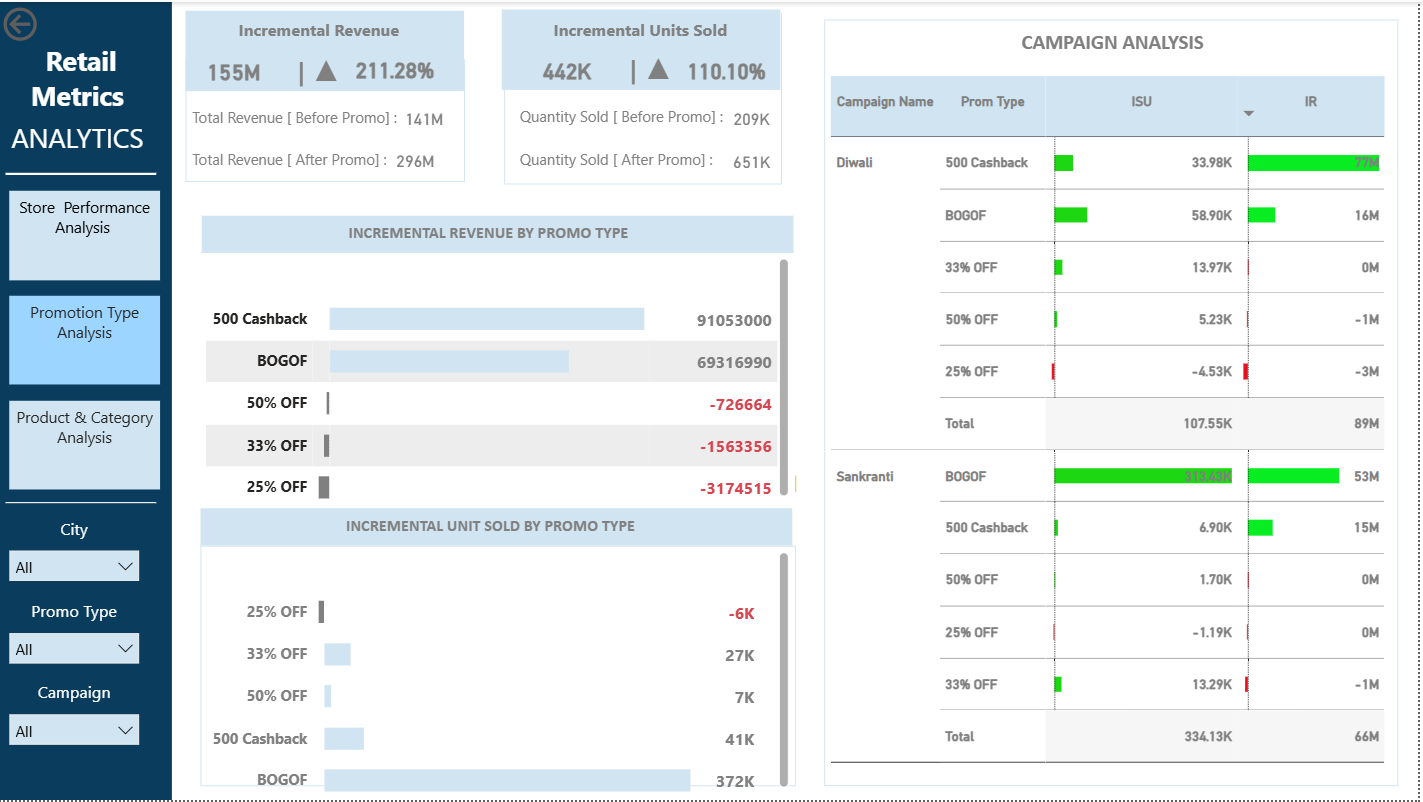

Layout of this report page (visuals, bound fields, positions):
{"tool":"powerbi","page":{"name":"Promotion Type  Analysis","canvas":[1280,720],"ordinal":1},"visuals":[{"type":"textbox","box":[183.7,192.4,533.8,33.5],"z":0},{"type":"textbox","box":[0,0,156.4,720.4],"z":1000},{"type":"actionButton","box":[0,0,100,40],"z":3000},{"type":"textbox","box":[744.8,16.1,517.6,691.4],"z":7000},{"type":"textbox","box":[183.4,426.8,535.6,14.7],"z":8000},{"type":"textbox","box":[0,31.8,143.1,74.6],"z":10000},{"type":"textbox","box":[0,101.5,143.1,44],"z":11000},{"type":"shape","box":[6.7,130.6,136,48.5],"z":12000},{"type":"slicer","title":"City","fields":{"Values":["dim_stores.city"]},"box":[0,464.7,137.3,74],"z":13000},{"type":"slicer","title":"Promo Type","fields":{"Values":["fact_events.promo_type"]},"box":[0,538.2,137.3,74],"z":14000},{"type":"slicer","title":"Campaign","fields":{"Values":["dim_campaigns.campaign_name"]},"box":[0,612.3,137.3,74],"z":15000},{"type":"shape","box":[6.7,426.8,136,48.5],"z":16000},{"type":"textbox","box":[9.8,170,135.7,80.7],"z":17000},{"type":"textbox","box":[9.8,265.4,135.7,80],"z":18000},{"type":"textbox","box":[9.8,359.5,135.7,80],"z":19000},{"type":"textbox","box":[311.6,193.6,291.7,33.5],"z":20000},{"type":"pivotTable","fields":{"Rows":["fact_events.promo_type"],"Values":["Sum(fact_events.IR)","Measures (2).Total IR"]},"box":[182.2,226.2,535.6,229.9],"z":21000},{"type":"pivotTable","fields":{"Values":["Sum(fact_events.ISU)","Sum(fact_events.IR)"],"Rows":["dim_campaigns.campaign_name","fact_events.promo_type"]},"box":[746,62.1,516.4,645.5],"z":22000},{"type":"textbox","box":[746,19.9,517.6,34.8],"z":23000},{"type":"textbox","box":[182.8,456.9,533.8,33.5],"z":24000},{"type":"textbox","box":[182.2,490.4,536.8,216.4],"z":25000},{"type":"textbox","box":[309.1,458,291.7,33.5],"z":26000},{"type":"pivotTable","fields":{"Rows":["fact_events.promo_type"],"Values":["Measures (2).Total Incremental Sold Units","Sum(fact_events.ISU)"]},"box":[182.2,491.6,535.6,228.7],"z":27000},{"type":"shape","box":[169.2,7.8,251.2,72.5],"z":28000},{"type":"card","fields":{"Values":["Sum(fact_events.Total Revenue(after_promo))"]},"box":[317.6,121.1,117.1,48.5],"z":29000},{"type":"card","fields":{"Values":["Sum(fact_events.Total Revenue(before_promo))"]},"box":[335.4,85,96.9,45.8],"z":30000},{"type":"card","fields":{"Values":["Sum(fact_events.IR)"]},"box":[173.7,44.6,78.4,37.4],"z":31000},{"type":"textbox","box":[169.8,90.4,204.6,35],"z":32000},{"type":"textbox","box":[169.8,127.9,204.6,35],"z":33000},{"type":"textbox","box":[211.7,10.3,171.2,42.5],"z":34000},{"type":"textbox","box":[168.8,51.4,251.9,110.1],"z":35000},{"type":"shape","box":[454.2,6.8,251.2,72.5],"z":36000},{"type":"card","fields":{"Values":["Sum(fact_events.ISU)"]},"box":[479.2,44,68.5,37.9],"z":37000},{"type":"textbox","box":[465.6,89.4,204.6,35],"z":38000},{"type":"textbox","box":[465.6,126.9,204.6,35],"z":39000},{"type":"textbox","box":[496.2,10,210,41.7],"z":40000},{"type":"textbox","box":[456.1,9.8,250.7,154.1],"z":41000},{"type":"card","fields":{"Values":["Measures (2).ISU %"]},"box":[296.7,22.9,123,78.4],"z":42000},{"type":"card","fields":{"Values":["Measures (2).IR %"]},"box":[607.5,30.6,99,64.8],"z":43000},{"type":"card","fields":{"Values":["Measures (2).Icon for IR"]},"box":[252.1,41,74.8,43.4],"z":44000},{"type":"card","fields":{"Values":["Measures (2).Icon for ISU"]},"box":[513.8,15.7,150.8,89.2],"z":45000},{"type":"card","fields":{"Values":["Sum(fact_events.quantity_sold(before_promo))"]},"box":[631.2,84,96.9,45.8],"z":46000},{"type":"card","fields":{"Values":["Sum(fact_events.Qunatity Sold After Promotion)"]},"box":[630.8,123,96.9,45.8],"z":47000},{"type":"shape","box":[0,360.7,149.2,90.5],"z":48000},{"type":"shape","box":[6.1,170,143.1,80.7],"z":49000}]}

Visuals, with their boxes on the page's 1280x720 design canvas (x1, y1, x2, y2). These are canvas units, not pixel positions in the 1423x802 screenshot, which may show the page scaled, cropped or inside an application window:
textbox: l=184, t=192, r=718, b=226
textbox: l=0, t=0, r=156, b=720
actionButton: l=0, t=0, r=100, b=40
textbox: l=745, t=16, r=1262, b=708
textbox: l=183, t=427, r=719, b=442
textbox: l=0, t=32, r=143, b=106
textbox: l=0, t=102, r=143, b=146
shape: l=7, t=131, r=143, b=179
"City" slicer: l=0, t=465, r=137, b=539
"Promo Type" slicer: l=0, t=538, r=137, b=612
"Campaign" slicer: l=0, t=612, r=137, b=686
shape: l=7, t=427, r=143, b=475
textbox: l=10, t=170, r=146, b=251
textbox: l=10, t=265, r=146, b=345
textbox: l=10, t=360, r=146, b=440
textbox: l=312, t=194, r=603, b=227
pivotTable - fact_events.promo_type x Sum(fact_events.IR): l=182, t=226, r=718, b=456
pivotTable - Sum(fact_events.ISU) x Sum(fact_events.IR): l=746, t=62, r=1262, b=708
textbox: l=746, t=20, r=1264, b=55
textbox: l=183, t=457, r=717, b=490
textbox: l=182, t=490, r=719, b=707
textbox: l=309, t=458, r=601, b=492
pivotTable - fact_events.promo_type x Measures (2).Total Incremental Sold Units: l=182, t=492, r=718, b=720
shape: l=169, t=8, r=420, b=80
card - Sum(fact_events.Total Revenue(after_promo)): l=318, t=121, r=435, b=170
card - Sum(fact_events.Total Revenue(before_promo)): l=335, t=85, r=432, b=131
card - Sum(fact_events.IR): l=174, t=45, r=252, b=82
textbox: l=170, t=90, r=374, b=125
textbox: l=170, t=128, r=374, b=163
textbox: l=212, t=10, r=383, b=53
textbox: l=169, t=51, r=421, b=162
shape: l=454, t=7, r=705, b=79
card - Sum(fact_events.ISU): l=479, t=44, r=548, b=82
textbox: l=466, t=89, r=670, b=124
textbox: l=466, t=127, r=670, b=162
textbox: l=496, t=10, r=706, b=52
textbox: l=456, t=10, r=707, b=164
card - Measures (2).ISU %: l=297, t=23, r=420, b=101
card - Measures (2).IR %: l=608, t=31, r=706, b=95
card - Measures (2).Icon for IR: l=252, t=41, r=327, b=84
card - Measures (2).Icon for ISU: l=514, t=16, r=665, b=105
card - Sum(fact_events.quantity_sold(before_promo)): l=631, t=84, r=728, b=130
card - Sum(fact_events.Qunatity Sold After Promotion): l=631, t=123, r=728, b=169
shape: l=0, t=361, r=149, b=451
shape: l=6, t=170, r=149, b=251
